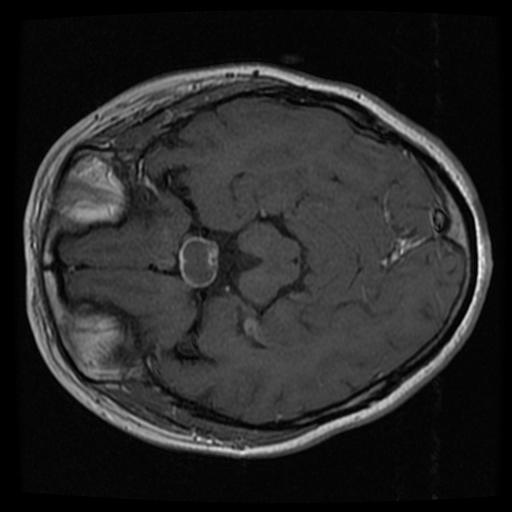pituitary tumour: (179, 237, 218, 286)
